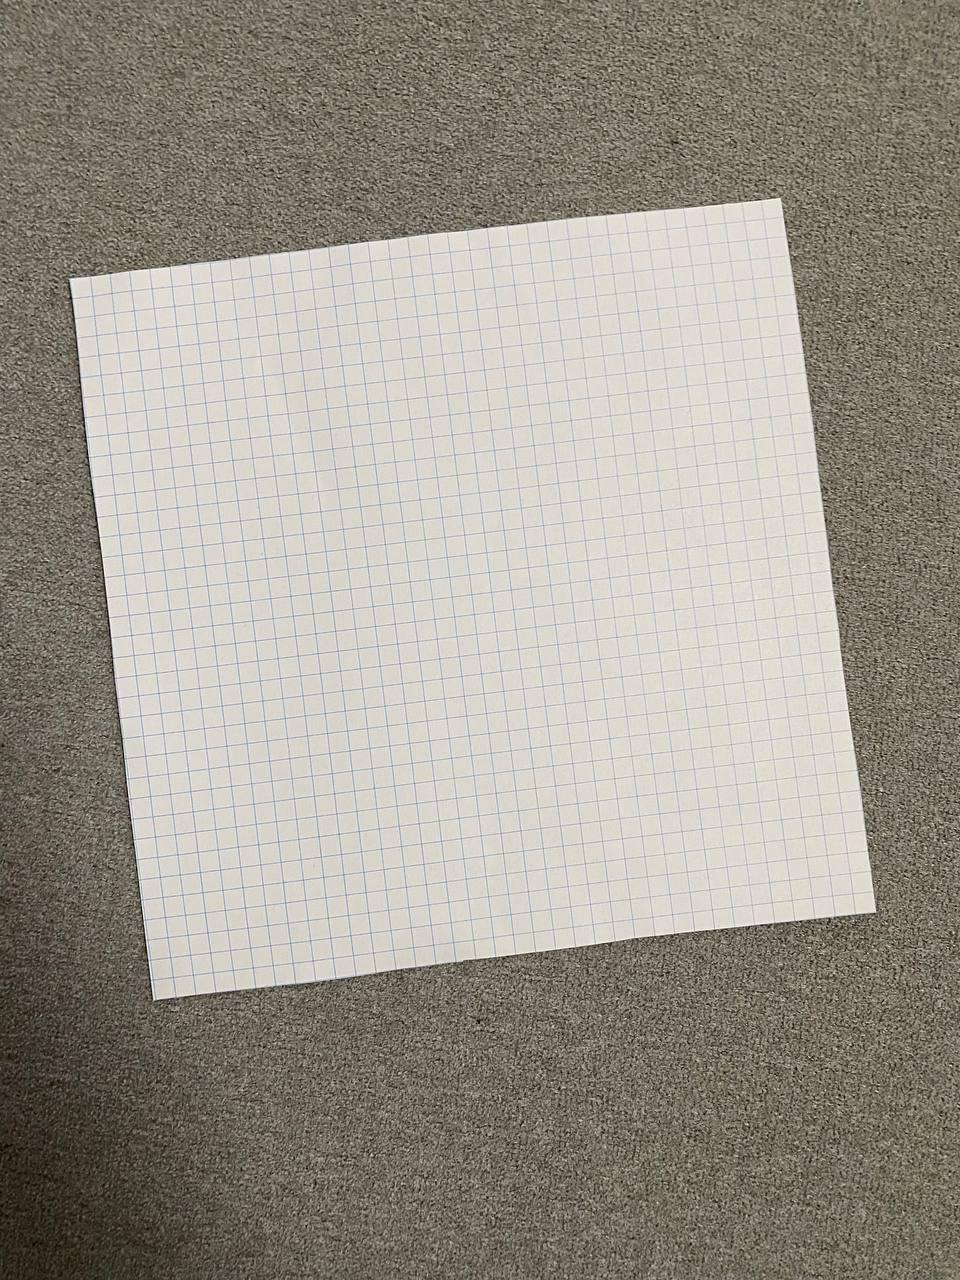grid: (46, 188, 887, 1040)
